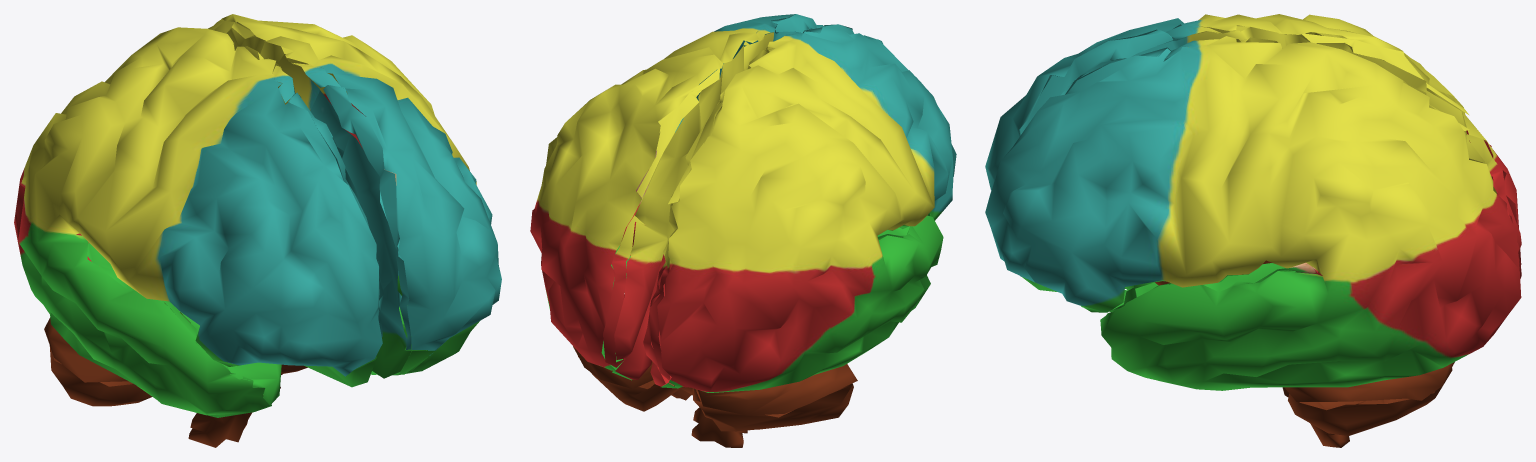
The picture shows the model from 3 angles, left to right: view 1: azimuth 30°, elevation 25°; view 2: azimuth 150°, elevation 25°; view 3: azimuth 270°, elevation 25°; orthographic projection. The views are drawn at different scales.
Parts seen in each view (by area): view 1: Brain_Part_06, Brain_Part_04, Brain_Part_02, Brain_Part_05; view 2: Brain_Part_06, Brain_Part_04, Brain_Part_02, Brain_Part_05; view 3: Brain_Part_04, Brain_Part_06, Brain_Part_02, Brain_Part_05.
Part boxes in pixels (bbox=[...]): Brain_Part_06: bbox=[14, 27, 383, 417]; Brain_Part_04: bbox=[208, 14, 501, 378]; Brain_Part_02: bbox=[44, 317, 152, 406]; Brain_Part_05: bbox=[165, 303, 282, 447]; Brain_Part_06: bbox=[643, 24, 956, 392]; Brain_Part_04: bbox=[530, 14, 823, 380]; Brain_Part_02: bbox=[573, 346, 857, 431]; Brain_Part_05: bbox=[691, 407, 747, 447]; Brain_Part_04: bbox=[985, 36, 1521, 390]; Brain_Part_06: bbox=[985, 14, 1521, 264]; Brain_Part_02: bbox=[1284, 362, 1454, 435]; Brain_Part_05: bbox=[1155, 260, 1349, 447].
Size of the model in its own units: 1.09 by 1.12 by 1.32.
Materials: 2 (2 with a texture image).
